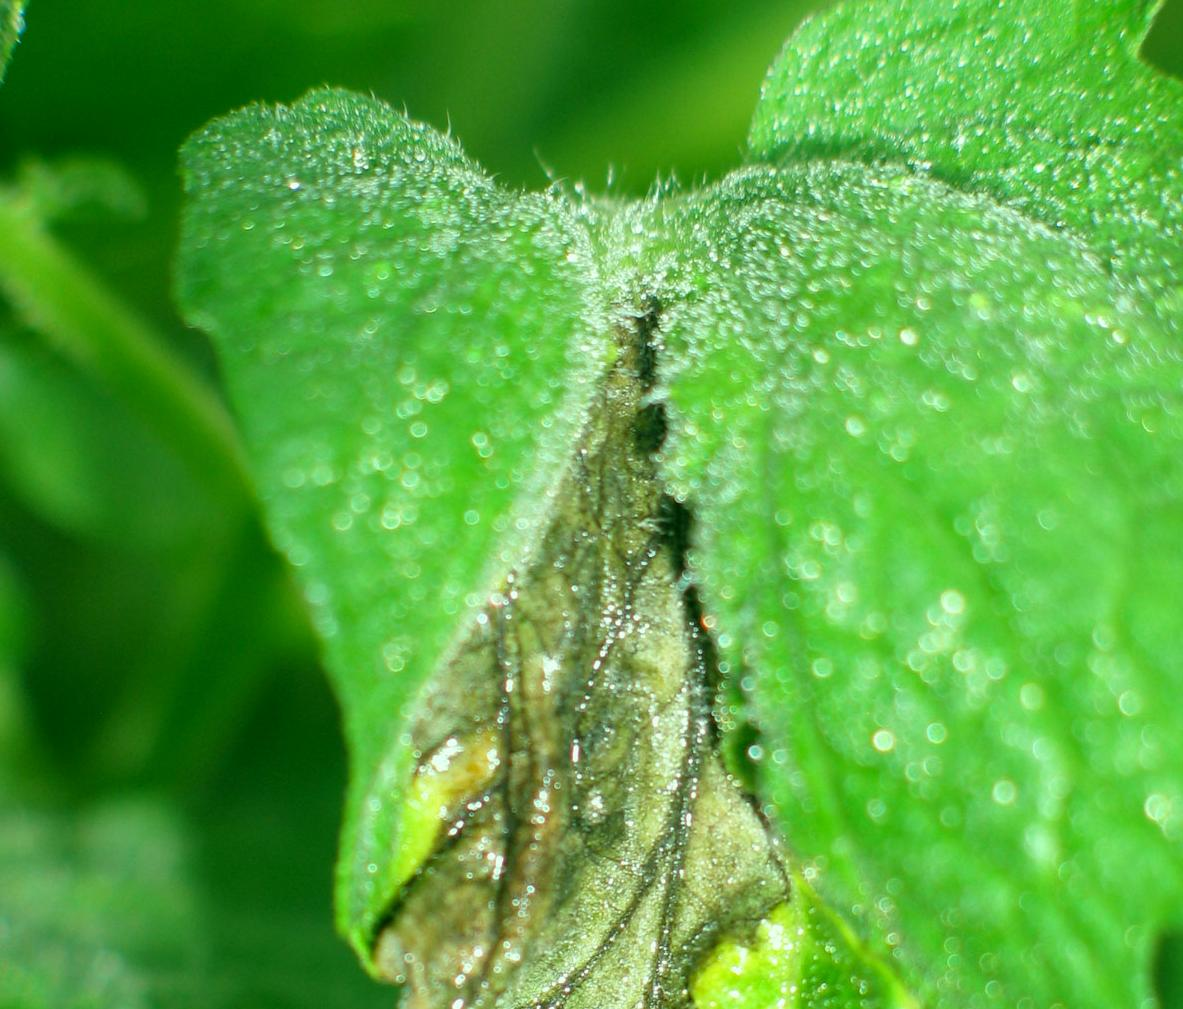Tomato leaf late blight: (129, 14, 1178, 1009)
